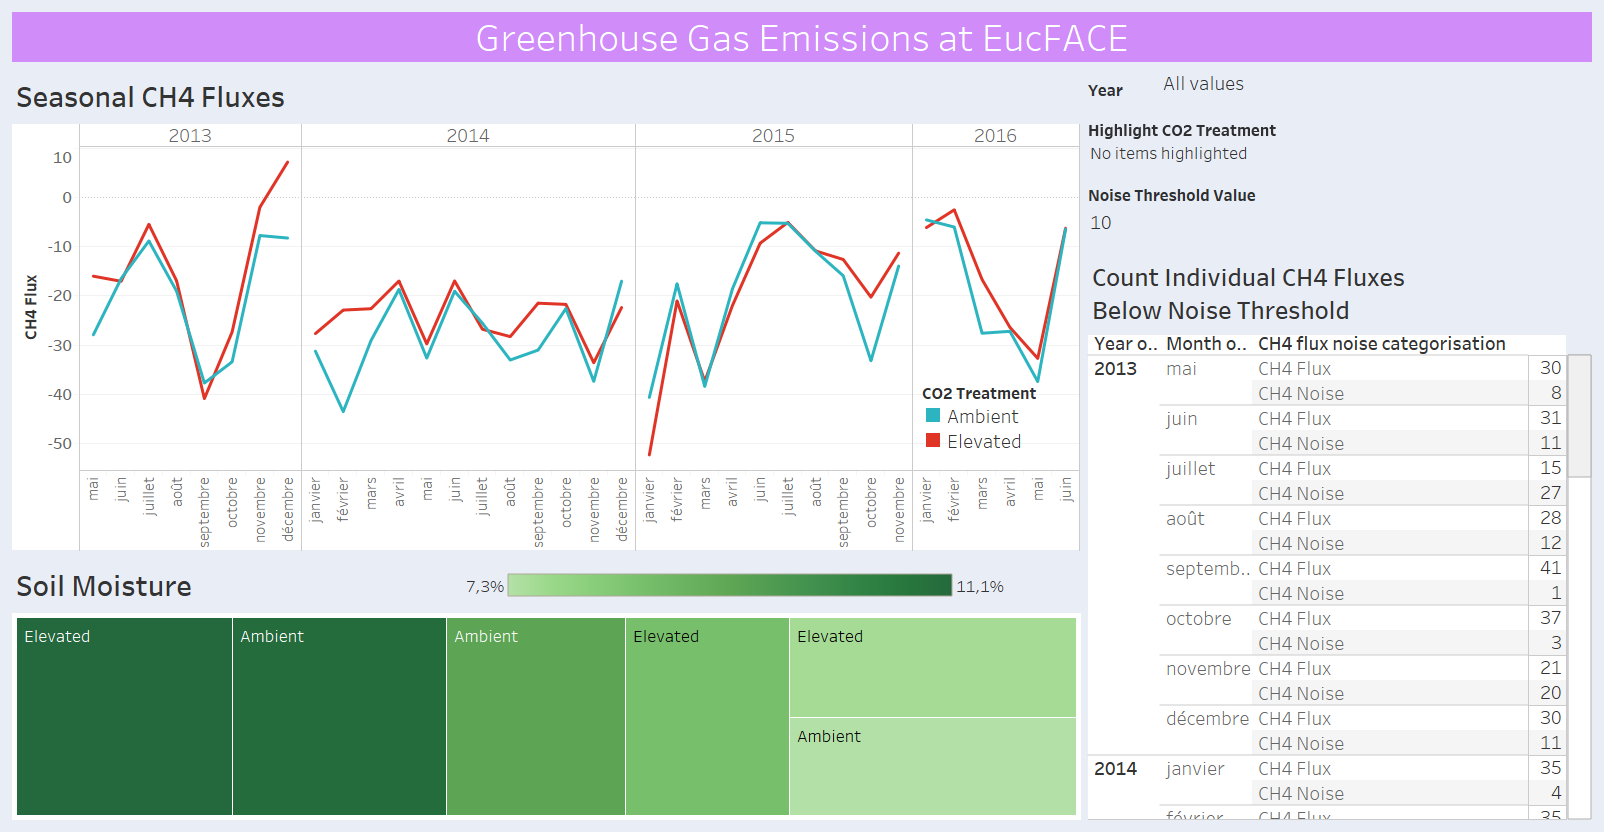

The dashboard page shown, as its layout file describes it:
{"tool":"tableau","page":{"name":"Dashboard 1","canvas":[1000,1000],"units":"permille","ordinal":0},"visuals":[{"type":"title","box":[5,9.6,990,69.7]},{"type":"worksheet","title":"Line Chart","mark":"Automatic","rows":["CH4_flux"],"cols":["Sampling_Date","Sampling_Date"],"box":[5,79.3,670.8,587.2]},{"type":"filter","title":"Line Chart","param":"[federated.1kw2du40vyxqc818egti316x3gql].[yr:Sampling_Date:qk]","box":[675.8,79.3,319.2,57.7]},{"type":"highlighter","title":"Treemap","param":"[federated.1kw2du40vyxqc818egti316x3gql].[none:CO2_trtmt:nk]","box":[675.8,137,319.2,78.1]},{"type":"parameter","param":"[Parameters].[Top X Warmest Months (copy)]","box":[675.8,215.2,319.2,85.3]},{"type":"worksheet","title":"Parameters Calculations","mark":"Automatic","rows":["Sampling_Date","Sampling_Date","Calculation_204913815043780611"],"box":[675.8,300.5,319.2,689.9]},{"type":"legend","title":"Line Chart","param":"[federated.1kw2du40vyxqc818egti316x3gql].[none:CO2_trtmt:nk]","box":[574.2,456.7,89.2,95]},{"type":"worksheet","title":"Treemap","mark":"Automatic","box":[5,666.6,670.8,323.8]},{"type":"legend","title":"Treemap","param":"[federated.1kw2du40vyxqc818egti316x3gql].[avg:avg_soil_moisture:qk]","box":[288,685,341,46.2]}]}

Visuals, with their boxes on the dashboard's canvas, which has no fixed pixel size, in thousandths of its width and height (x1, y1, x2, y2). These are canvas units, not pixel positions in the 1604x832 screenshot, which may show the page scaled, cropped or inside an application window:
title: detection(5, 10, 995, 79)
"Line Chart" worksheet: detection(5, 79, 676, 666)
"Line Chart" filter: detection(676, 79, 995, 137)
"Treemap" highlighter: detection(676, 137, 995, 215)
parameter: detection(676, 215, 995, 300)
"Parameters Calculations" worksheet: detection(676, 300, 995, 990)
"Line Chart" legend: detection(574, 457, 663, 552)
"Treemap" worksheet: detection(5, 667, 676, 990)
"Treemap" legend: detection(288, 685, 629, 731)
